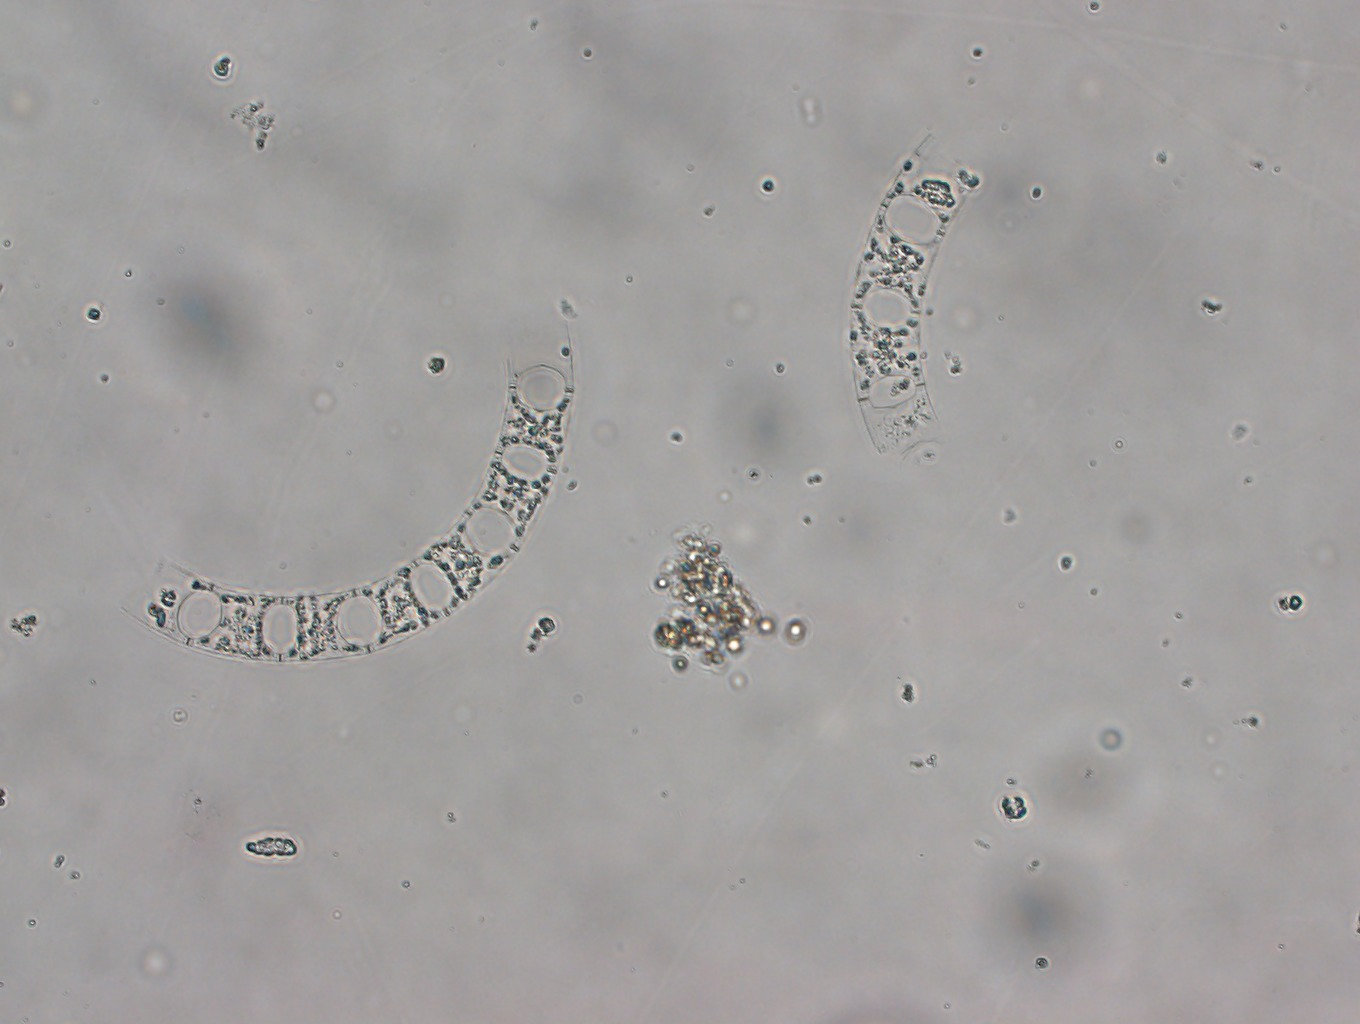eucampia: (133, 312, 582, 672), (839, 124, 997, 461)
